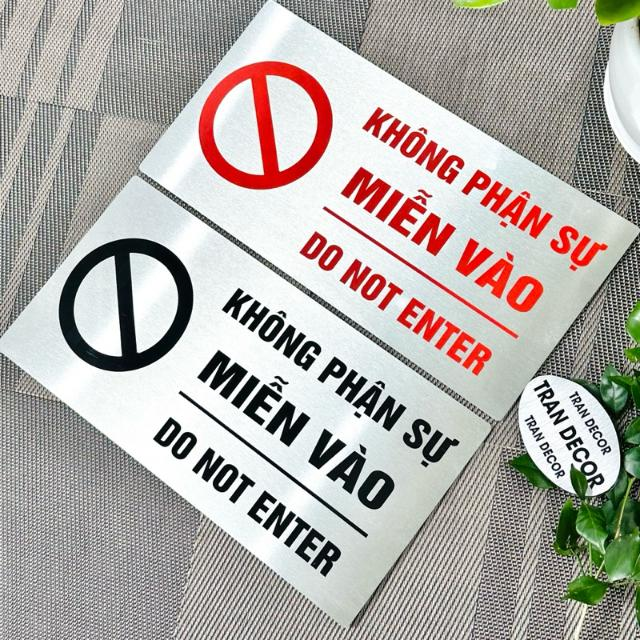no_entry: (0, 178, 489, 624), (140, 0, 638, 418)
